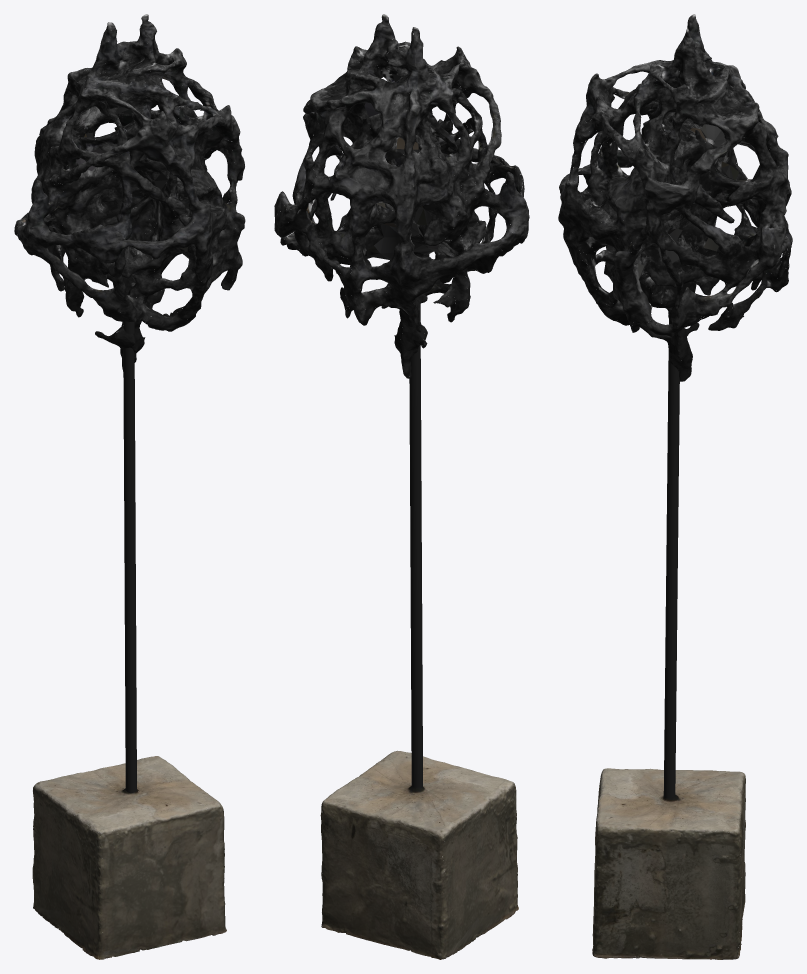
The model's file is entangle.glb.
The picture shows the model from 3 angles, left to right: view 1: azimuth 30°, elevation 25°; view 2: azimuth 150°, elevation 25°; view 3: azimuth 270°, elevation 25°; orthographic projection. The views are drawn at different scales.
Parts seen in each view (by area): view 1: Mesh_0_Part_0, Cylinder; view 2: Mesh_0_Part_0, Cylinder; view 3: Mesh_0_Part_0, Cylinder.
Boxes of the visible parts, x1=… form: Mesh_0_Part_0: x1=14, y1=14, x2=245, y2=959; Cylinder: x1=123, y1=321, x2=136, y2=793; Mesh_0_Part_0: x1=274, y1=14, x2=529, y2=959; Cylinder: x1=409, y1=304, x2=422, y2=787; Mesh_0_Part_0: x1=558, y1=14, x2=792, y2=959; Cylinder: x1=663, y1=319, x2=679, y2=830.
Size of the model in its own units: 3.93 by 15.63 by 3.64.
2 materials, 1 textured.
